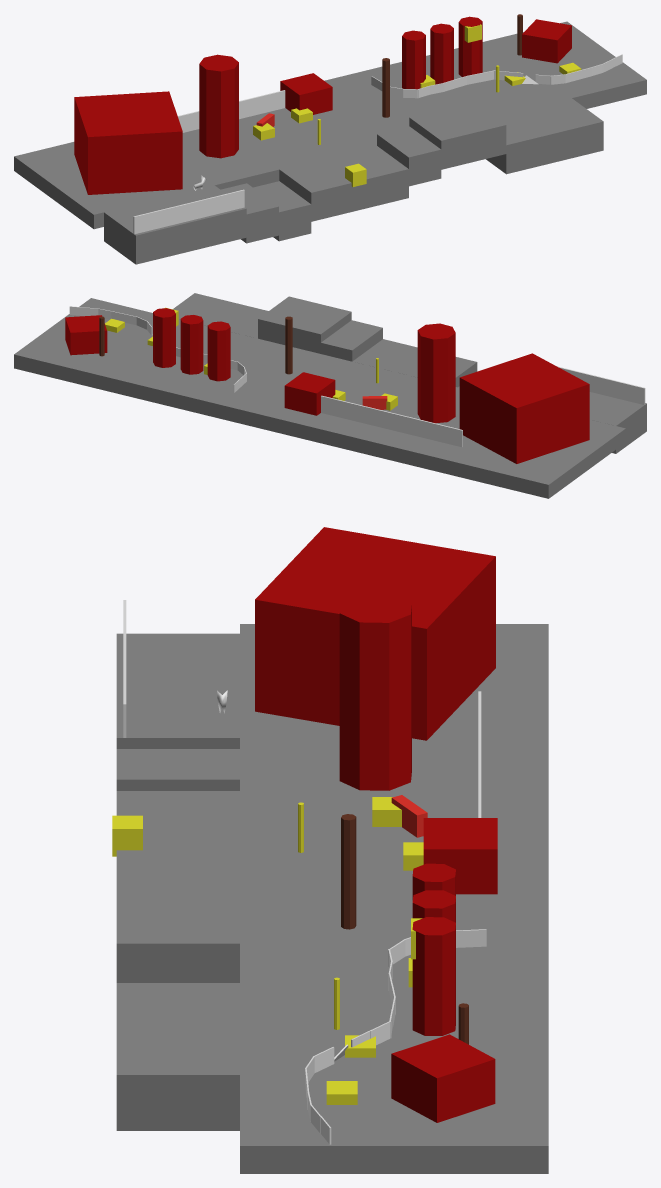
Rendered from map_farm.gltf.
The picture shows the model from 3 angles, top to bottom: view 1: azimuth 30°, elevation 25°; view 2: azimuth 150°, elevation 25°; view 3: azimuth 270°, elevation 25°; orthographic projection. The views are drawn at different scales.
Visible parts, largest first — view 1: Ground.007, Barn, Ground.003, Ground, Ground.006, Ground.005, Silo, Ground.004, Ground.002, Barn.002, Ground.001, Barn.001 (+10 smaller); view 2: Ground.007, Barn, Silo, Ground.005, Ground.006, Ground.003, Ground, Ground.004, Barn.001, Barn.002, Silo.001, Silo.002 (+10 smaller); view 3: Ground.007, Barn, Ground.006, Silo, Ground, Ground.005, Ground.003, Barn.002, Ground.001, Silo.003, Barn.001, Ground.004 (+5 smaller).
Part boxes in pixels (x1=…): Ground.007: x1=14, y1=21, x2=646, y2=229; Barn: x1=74, y1=91, x2=182, y2=194; Ground.003: x1=279, y1=146, x2=408, y2=221; Ground: x1=104, y1=185, x2=246, y2=264; Ground.006: x1=486, y1=98, x2=603, y2=174; Ground.005: x1=409, y1=101, x2=506, y2=169; Silo: x1=199, y1=54, x2=238, y2=158; Ground.004: x1=377, y1=126, x2=441, y2=186; Ground.002: x1=253, y1=181, x2=311, y2=241; Barn.002: x1=522, y1=19, x2=571, y2=63; Ground.001: x1=221, y1=183, x2=278, y2=243; Barn.001: x1=280, y1=73, x2=332, y2=114; Ground.007: x1=14, y1=298, x2=625, y2=498; Barn: x1=459, y1=353, x2=589, y2=463; Silo: x1=417, y1=323, x2=455, y2=423; Ground.005: x1=258, y1=296, x2=351, y2=353; Ground.006: x1=173, y1=293, x2=268, y2=338; Ground.003: x1=352, y1=339, x2=477, y2=387; Ground: x1=589, y1=392, x2=646, y2=453; Ground.004: x1=321, y1=320, x2=382, y2=361; Barn.001: x1=284, y1=372, x2=335, y2=415; Barn.002: x1=65, y1=315, x2=107, y2=355; Silo.001: x1=207, y1=321, x2=230, y2=381; Silo.002: x1=180, y1=315, x2=203, y2=374; Ground.007: x1=240, y1=624, x2=548, y2=1173; Barn: x1=255, y1=527, x2=495, y2=740; Ground.006: x1=116, y1=983, x2=239, y2=1130; Silo: x1=339, y1=592, x2=411, y2=790; Ground: x1=116, y1=633, x2=239, y2=748; Ground.005: x1=116, y1=882, x2=239, y2=982; Ground.003: x1=116, y1=799, x2=239, y2=868; Barn.002: x1=391, y1=1034, x2=495, y2=1122; Ground.001: x1=116, y1=749, x2=239, y2=790; Silo.003: x1=412, y1=917, x2=455, y2=1035; Barn.001: x1=423, y1=818, x2=497, y2=894; Ground.004: x1=116, y1=868, x2=239, y2=882.
Size of the model in its own units: 40 by 8.8 by 14.14.
